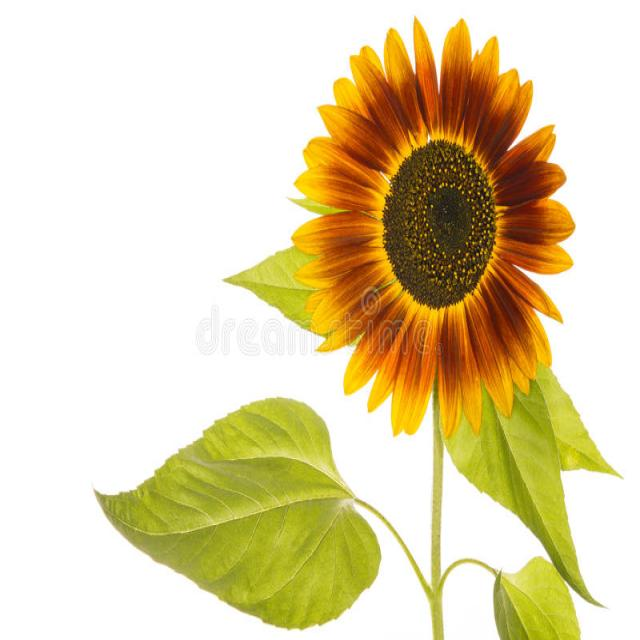sunflower: (268, 16, 586, 438)
